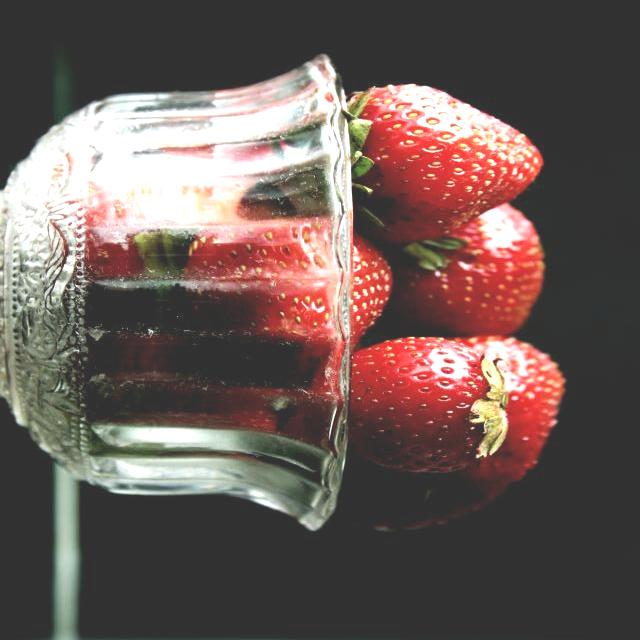ripe: (390, 329, 563, 526), (344, 78, 554, 230), (199, 223, 386, 371), (334, 333, 505, 473), (391, 196, 549, 344)
